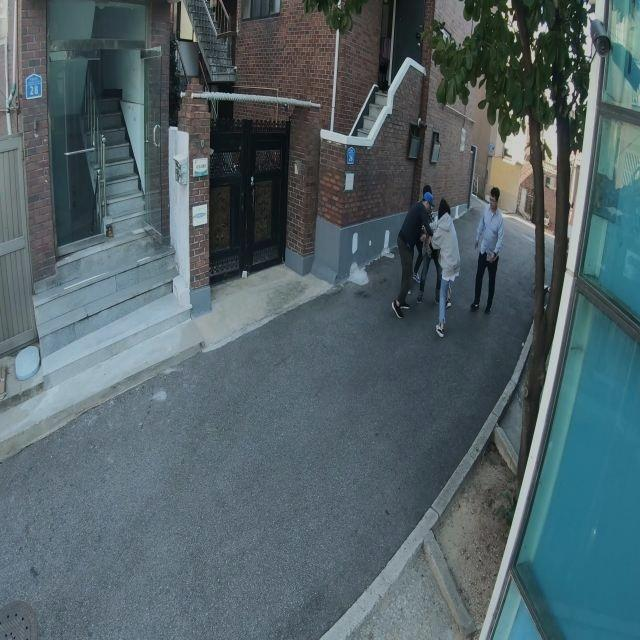fight: (390, 194, 458, 338)
non-fight: (471, 188, 506, 314)
